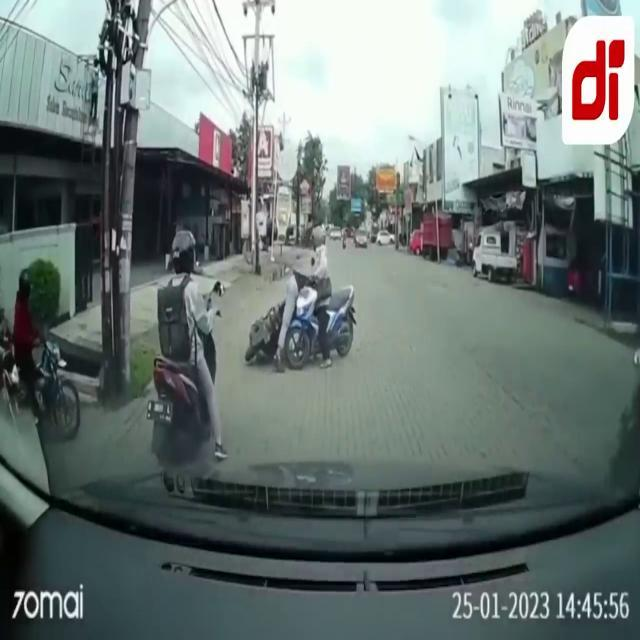multiple_accident: (227, 226, 380, 377)
normal: (132, 209, 236, 461), (1, 243, 107, 453)
